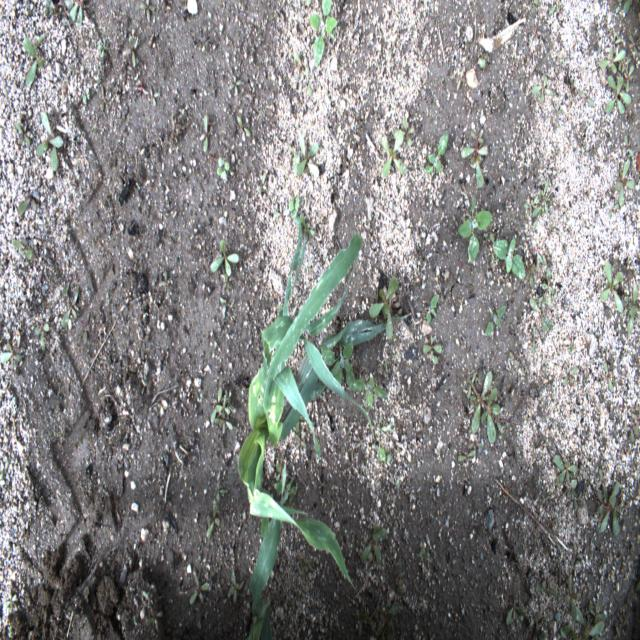crop: (238, 216, 412, 588), (248, 462, 308, 638)
weed: (465, 368, 502, 448), (457, 195, 494, 265), (369, 274, 399, 340), (310, 1, 337, 69), (34, 111, 63, 173), (460, 128, 489, 189), (323, 341, 355, 389), (491, 237, 525, 281), (598, 261, 624, 315), (570, 601, 607, 638), (20, 37, 46, 89), (348, 377, 388, 408), (208, 239, 240, 277), (598, 483, 620, 538), (380, 131, 406, 177), (620, 277, 640, 335), (605, 74, 632, 116), (295, 136, 321, 177), (360, 527, 388, 565), (424, 132, 449, 174), (614, 160, 636, 207), (552, 455, 579, 490), (188, 567, 212, 606), (528, 296, 553, 333), (60, 287, 80, 329), (563, 576, 580, 624), (529, 180, 550, 218), (598, 48, 626, 76), (392, 115, 417, 146), (484, 303, 506, 337), (208, 389, 230, 422), (540, 265, 556, 309), (0, 341, 24, 370), (204, 500, 222, 538), (60, 0, 84, 28), (120, 34, 138, 70), (227, 570, 244, 608), (422, 334, 442, 366), (530, 76, 552, 104), (621, 411, 639, 445), (144, 606, 163, 635), (19, 191, 40, 216), (214, 411, 234, 437), (15, 119, 32, 146), (35, 320, 50, 350), (198, 114, 209, 154), (139, 0, 156, 25), (300, 213, 316, 239), (12, 240, 32, 260), (602, 359, 613, 395), (226, 74, 242, 98), (216, 158, 231, 183), (236, 115, 252, 138), (594, 466, 606, 496), (561, 366, 579, 386), (3, 591, 19, 613), (288, 196, 300, 221)
